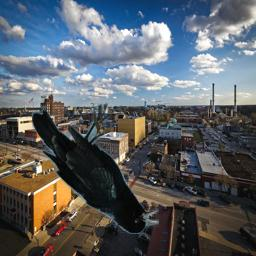Crow: (32, 104, 159, 234)
